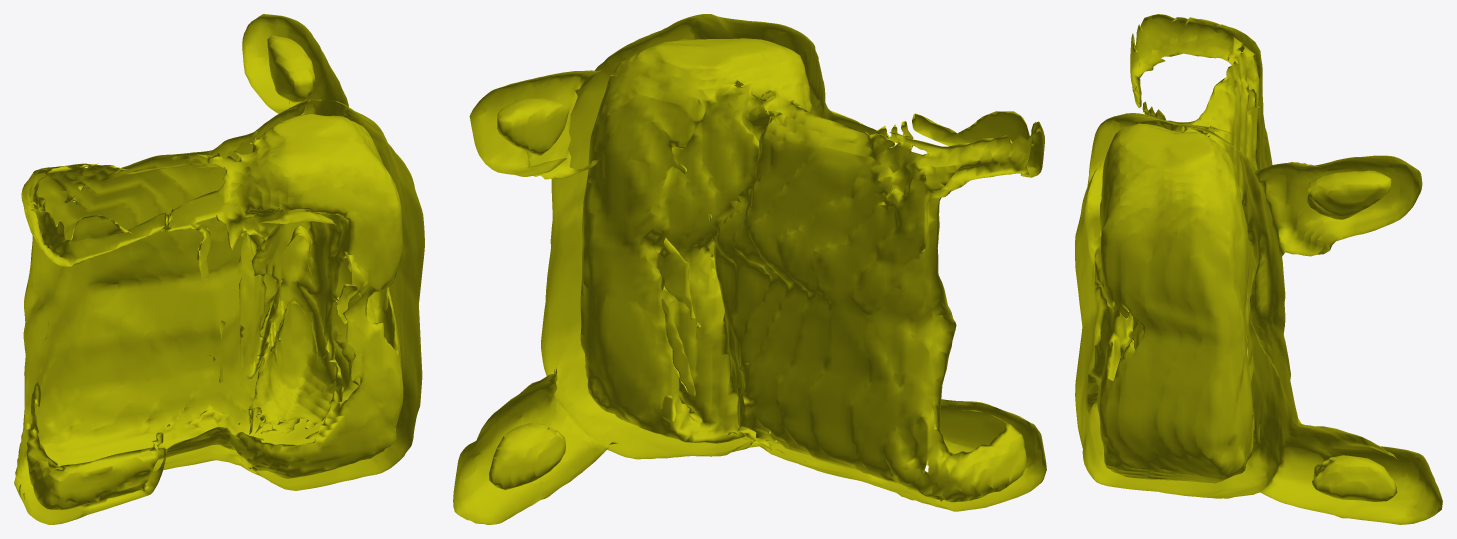
3 renders of one model, left to right at view 1: azimuth 30°, elevation 25°; view 2: azimuth 150°, elevation 25°; view 3: azimuth 270°, elevation 25°, orthographic. The views are drawn at different scales.
Visible parts, largest first — view 1: world; view 2: world; view 3: world.
Boxes of the visible parts, left/top/right/bottom form: world: left=14, top=14, right=424, bottom=524; world: left=453, top=14, right=1046, bottom=524; world: left=1075, top=14, right=1442, bottom=524.
Size of the model in its own units: 71.48 by 62.92 by 57.86.
